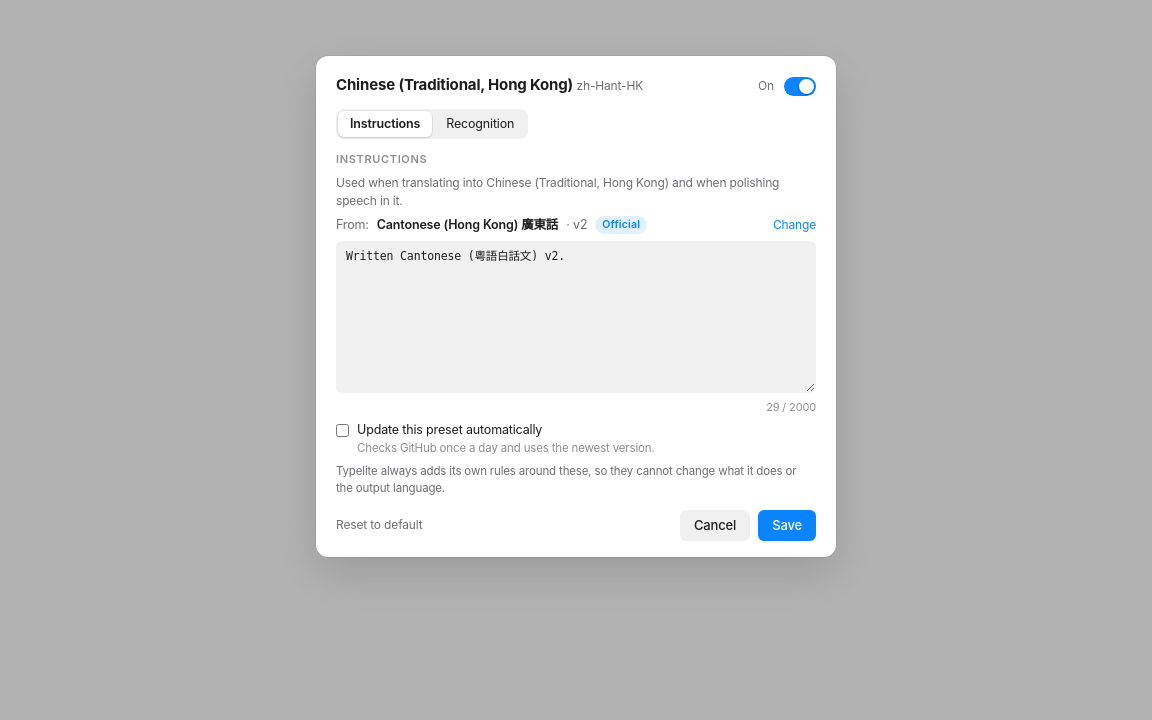
Test: LanguageSheet › shows a preset as the source, and an edit as based on it with Reset to preset
Check: the text "From:" is shown, box [336,216,369,235]
Check: the text "Official" is shown, box [595,216,647,234]
Replace the text in the text box named "Instructions" with "My Cantonese." at (576, 316), box [336,240,816,392]
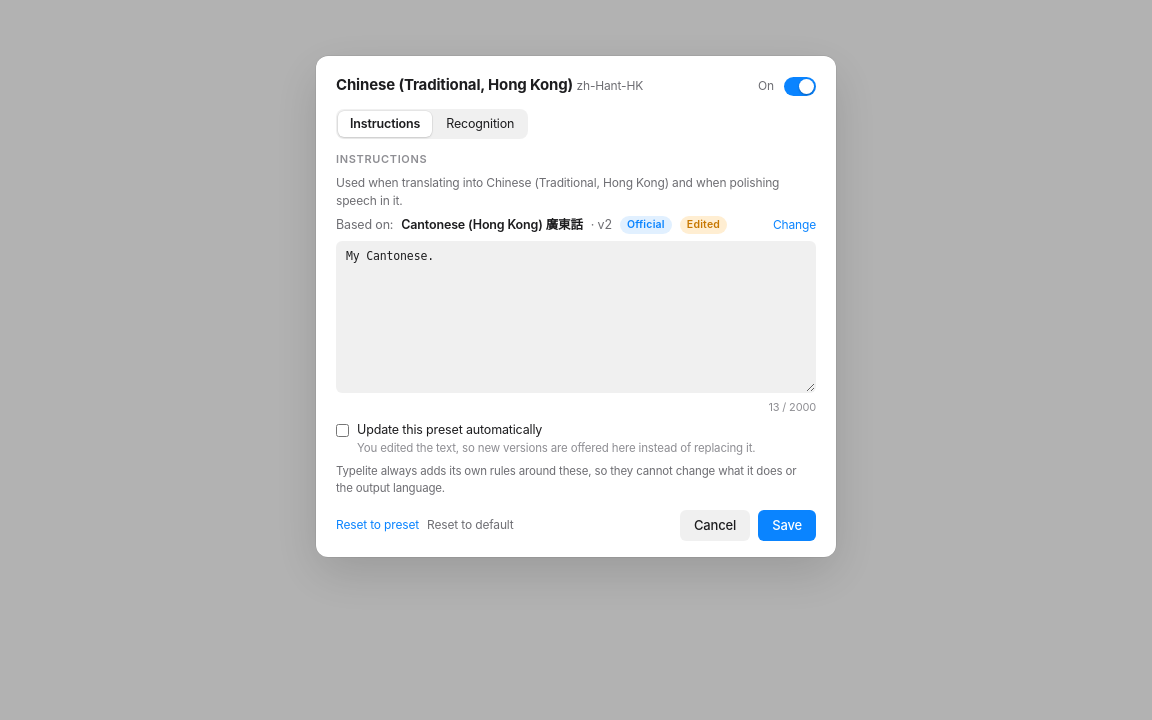
Check: the text "Based on:" is shown, box [336,216,393,235]
Check: the text "Edited" is shown, box [680,216,727,234]
Check: the text "You edited the text, so new versions are offered here instead of replacing it." is shown, box [357,440,755,457]
Click the button "Reset to preset".
click(378, 525)  # box [336,516,419,534]
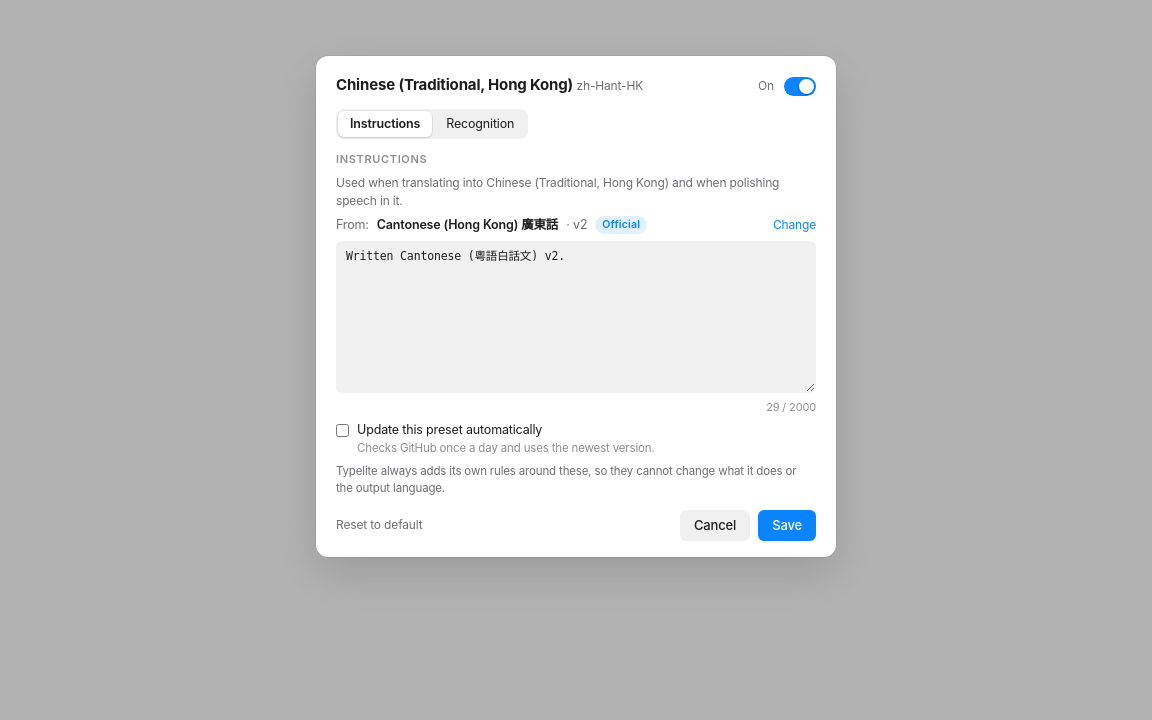
Check: the text box named "Instructions" holds "Written Cantonese (粵語白話文) v2.", box [336,240,816,392]
Check: the button "Reset to preset" is gone
Click the button "Reset to default".
click(379, 525)  # box [336,516,422,534]
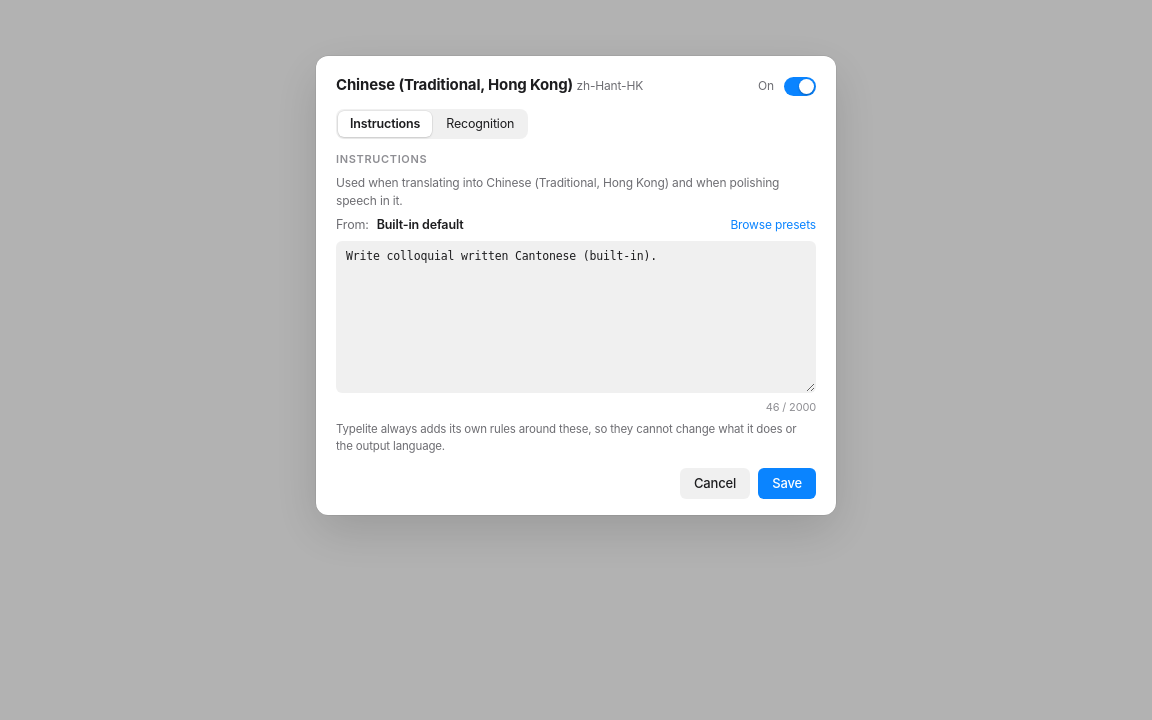
Check: the text box named "Instructions" holds "Write colloquial written Cantonese (built-in).", box [336,240,816,392]
Check: the text "Built-in default" is shown, box [377,216,464,235]
